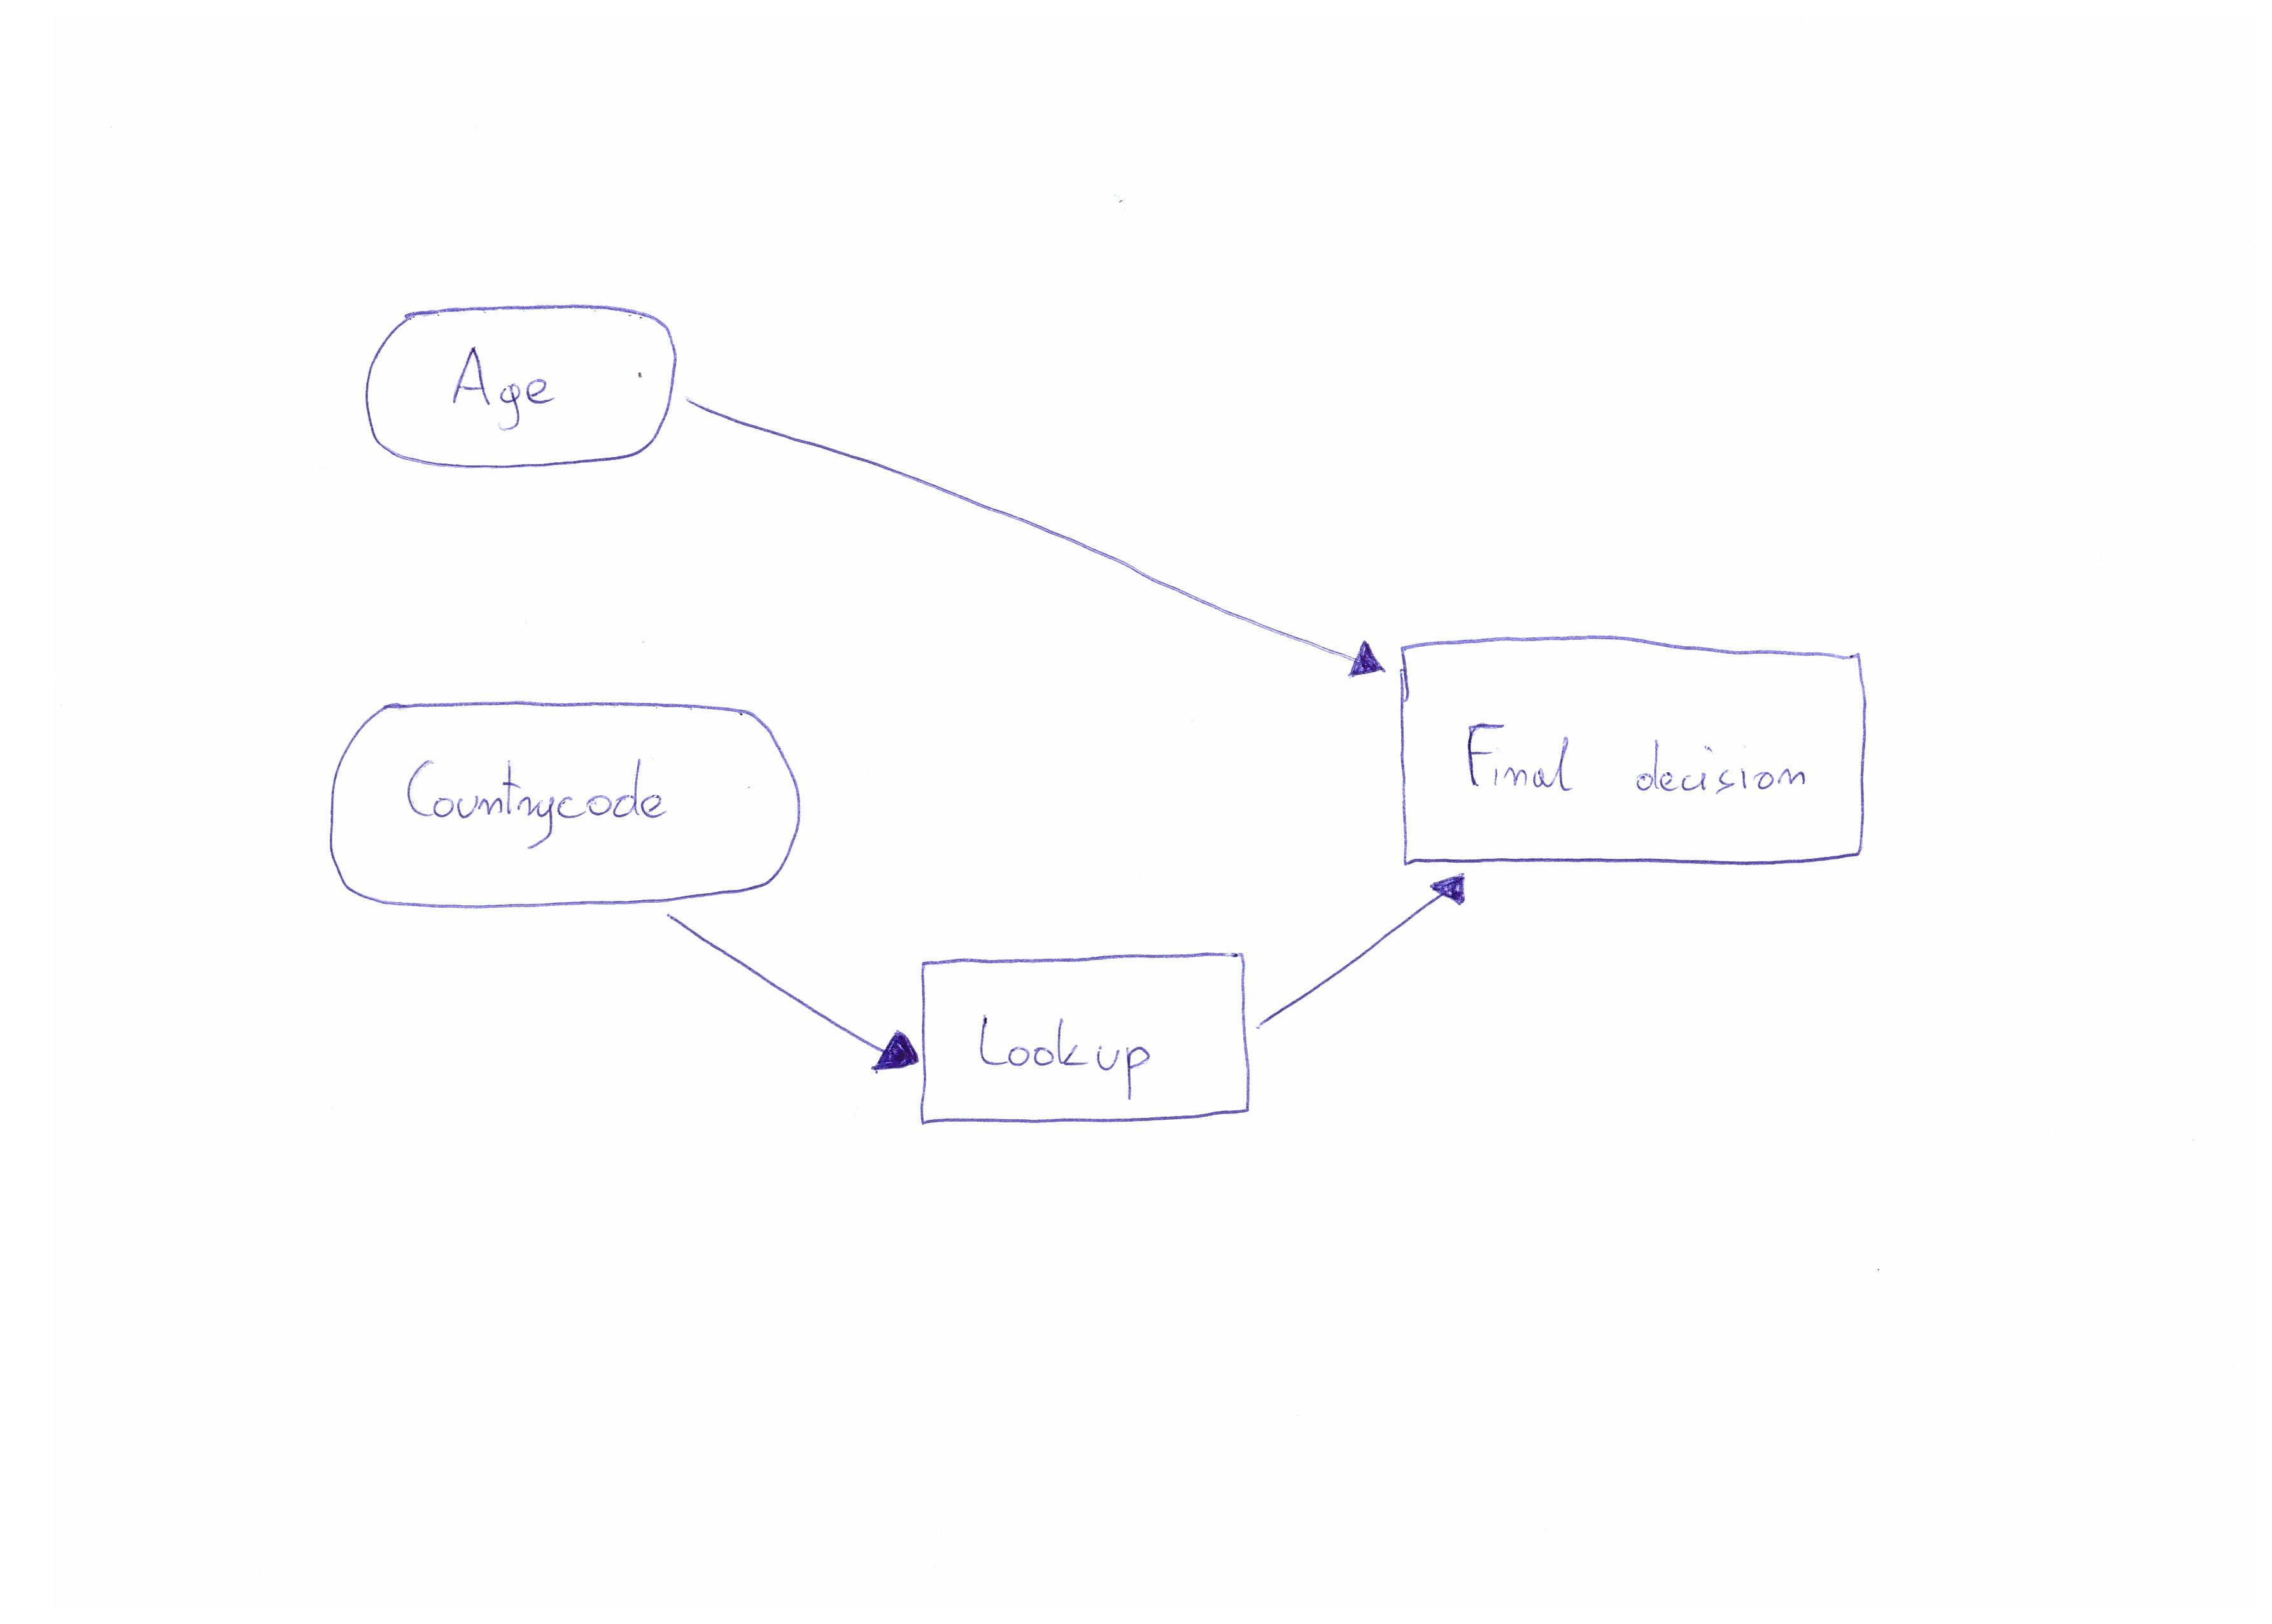arrow_information_requirement: (682, 380, 1395, 687), (652, 905, 923, 1093), (1253, 866, 1483, 1060)
node_decision: (1388, 622, 1873, 872), (919, 949, 1260, 1135)
node_input_data: (322, 685, 807, 905), (358, 297, 684, 482)
text: (1446, 703, 1827, 817), (392, 740, 691, 859), (951, 997, 1188, 1106), (434, 339, 578, 438)
